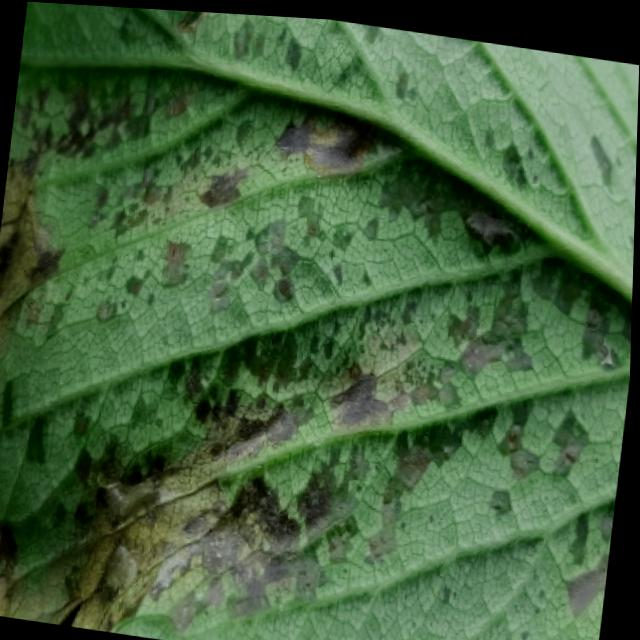Angular Leafspot: (0, 5, 637, 640)
